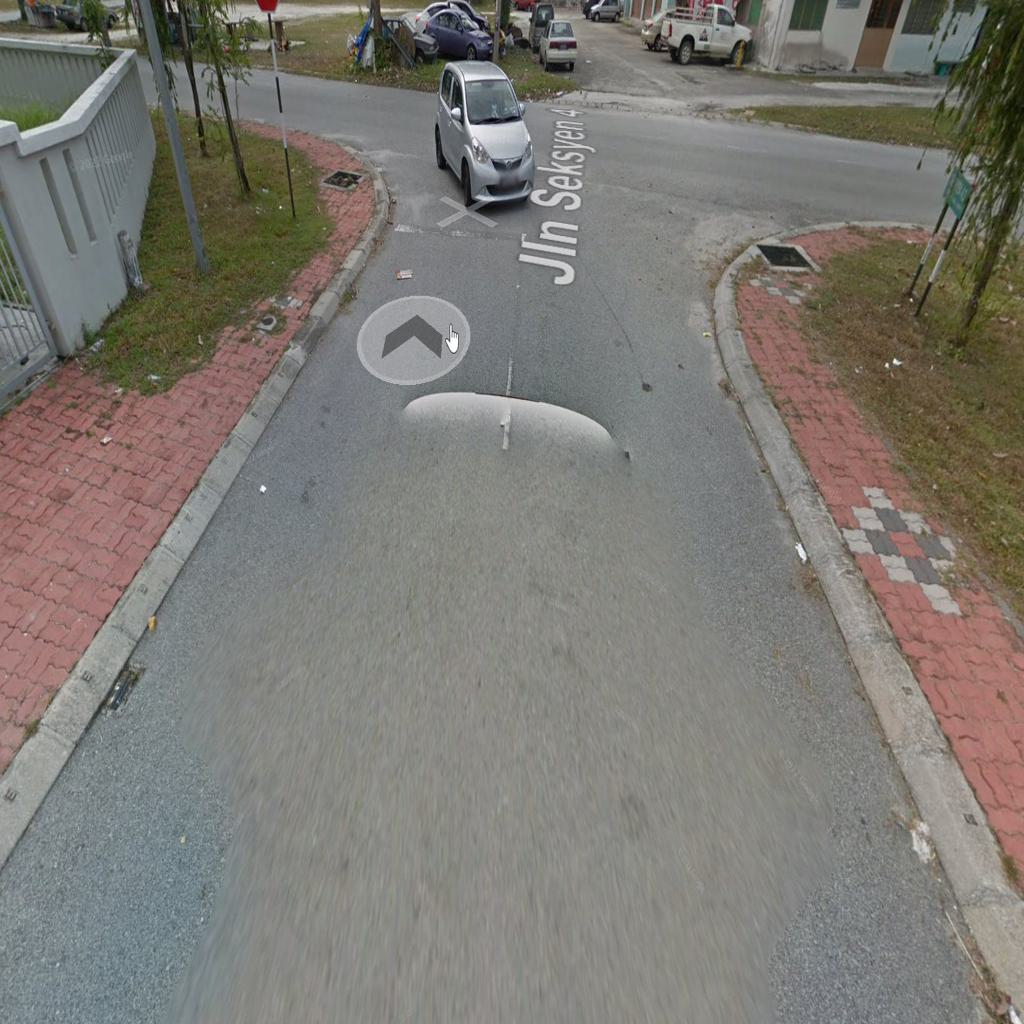Junction: (693, 98, 1014, 334), (224, 33, 418, 216)
